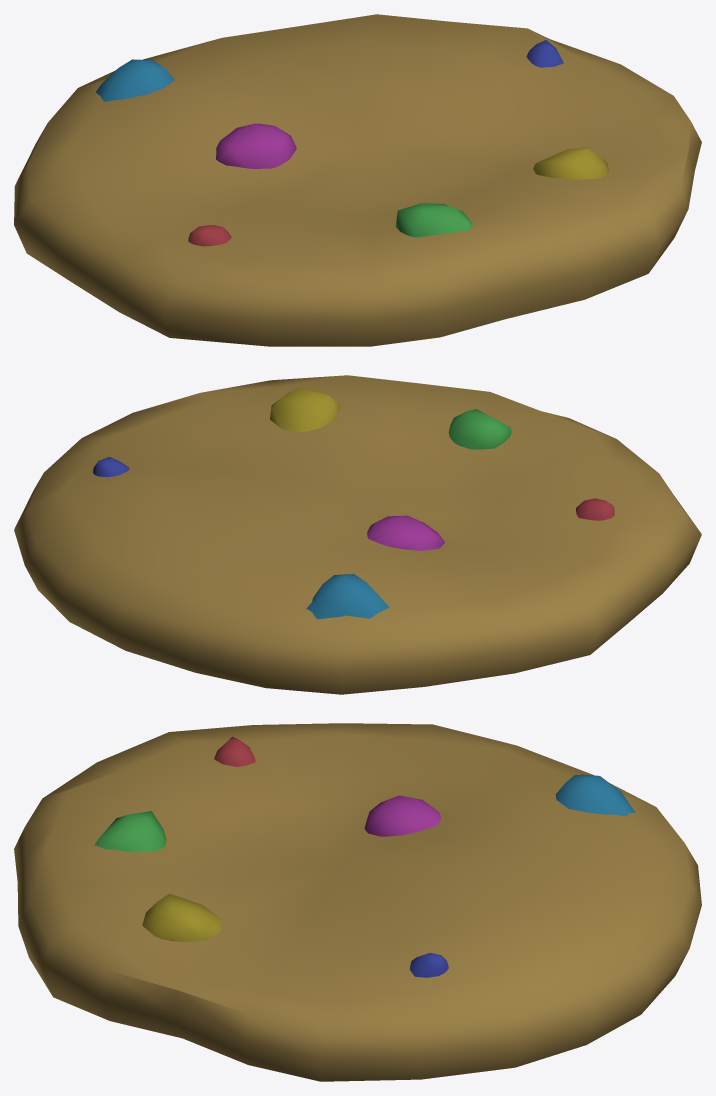
Rendered from Cookie.001.fbx.
3 renders of one model, top to bottom at view 1: azimuth 30°, elevation 25°; view 2: azimuth 150°, elevation 25°; view 3: azimuth 270°, elevation 25°, orthographic. The views are drawn at different scales.
Parts seen in each view (by area): view 1: Cookie.001; view 2: Cookie.001; view 3: Cookie.001.
Boxes of the visible parts, box(x1,y1,x2,y2) form: Cookie.001: box(14, 14, 701, 346); Cookie.001: box(14, 375, 701, 694); Cookie.001: box(14, 723, 701, 1081).
Bounding box in the file's own units: 245 × 36.13 × 225.
